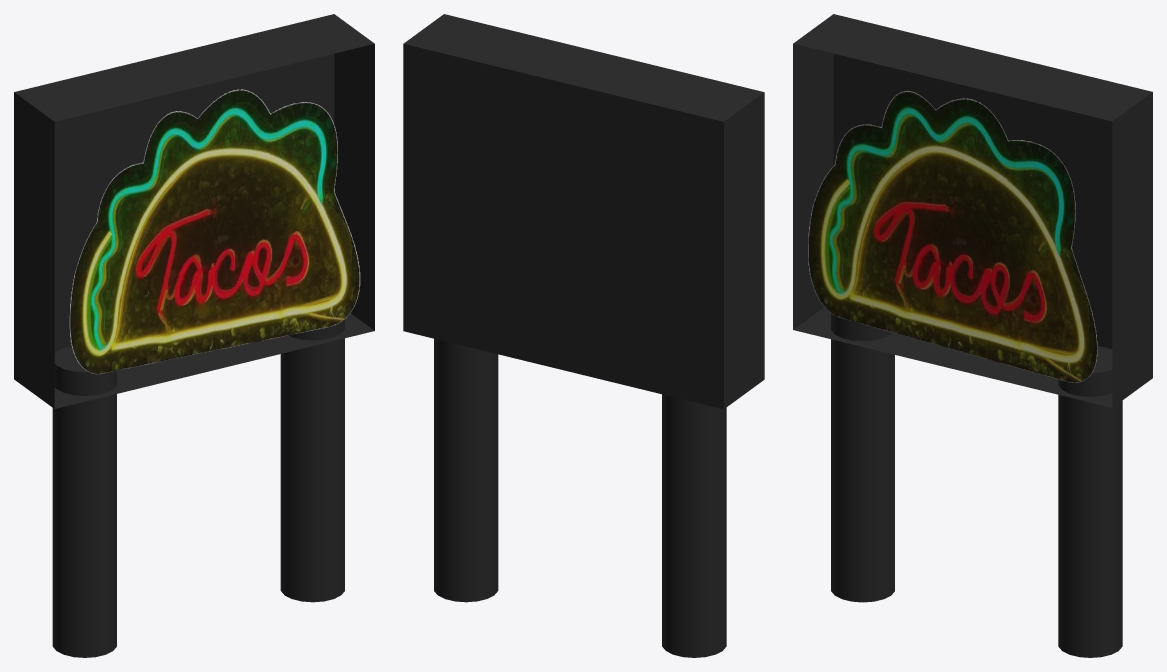
File: Letrero1.fbx
3 views of the same model, side by side, from view 1: azimuth 30°, elevation 25°; view 2: azimuth 150°, elevation 25°; view 3: azimuth 330°, elevation 25° (orthographic).
Parts seen in each view (by area): view 1: Box006; view 2: Box006; view 3: Box006.
Boxes of the visible parts, x1,y1,x2,y2 form: Box006: [14, 14, 374, 657]; Box006: [403, 14, 764, 657]; Box006: [793, 14, 1152, 657].
Size of the model in its own units: 21.36 by 35 by 4.69.
Materials: 2 (1 with a texture image).
